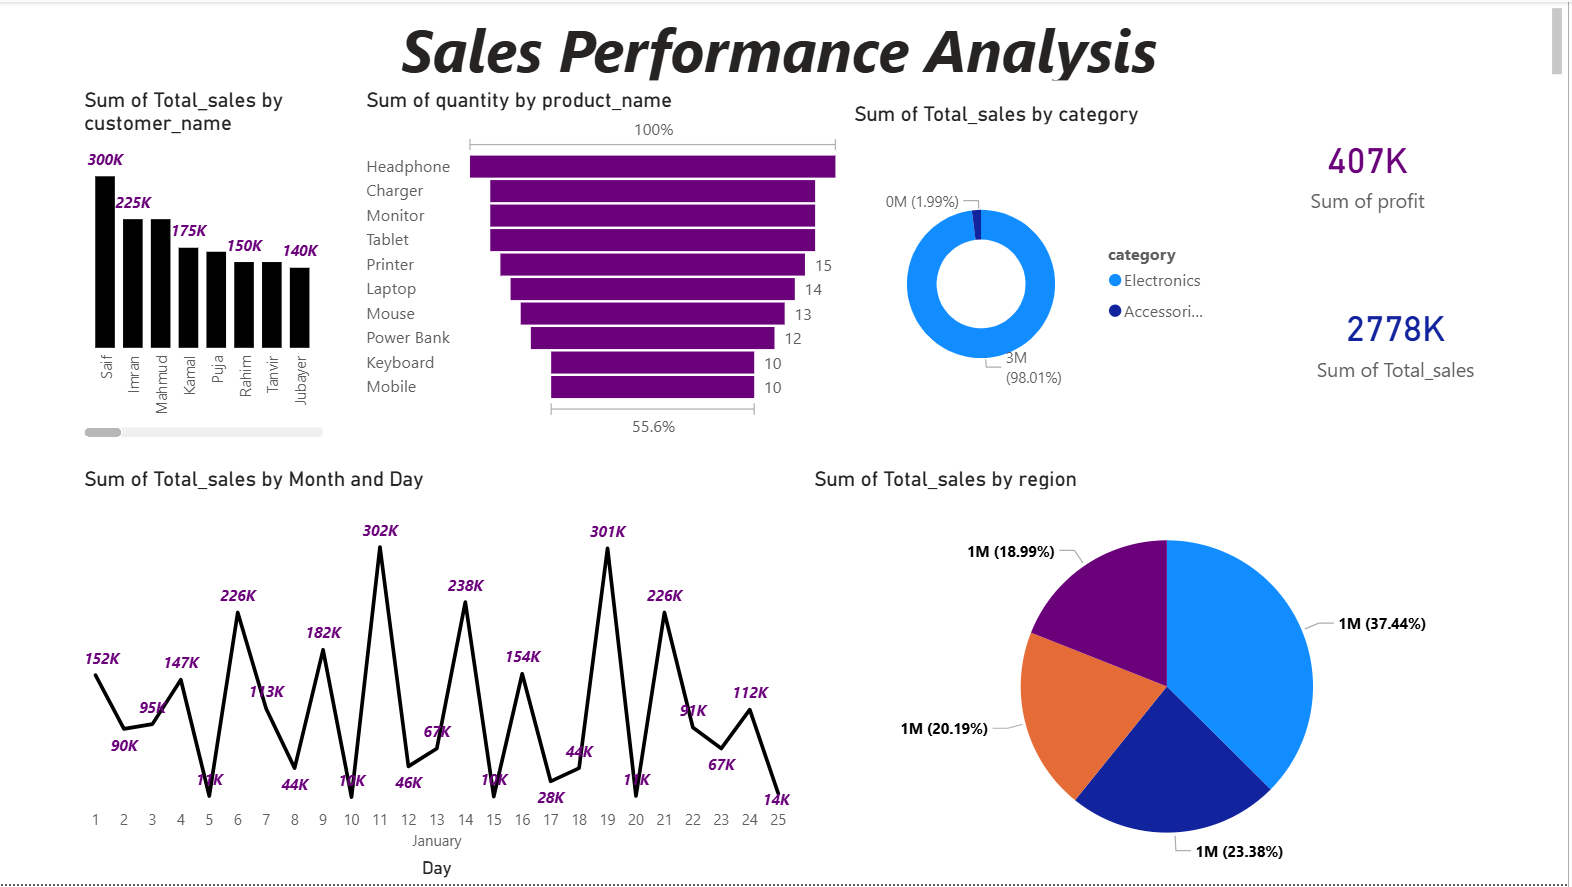

The page's visual inventory and layout, read from the dashboard file:
{"tool":"powerbi","page":{"name":"Page 1","canvas":[1280,720],"ordinal":0},"visuals":[{"type":"donutChart","fields":{"Category":["Sales performance Analysis.category"],"Y":["Sales performance Analysis.Total_sales"]},"box":[692.1,80.6,306.2,279.7],"z":0},{"type":"clusteredColumnChart","fields":{"Category":["Sales performance Analysis.customer_name"],"Y":["Sales performance Analysis.Total_sales"]},"box":[63.3,69.4,205.2,290.9],"z":1},{"type":"funnel","fields":{"Category":["Sales performance Analysis.product_name"],"Y":["Sales performance Analysis.quantity"]},"box":[294,69.4,398.1,290.9],"z":2},{"type":"lineChart","fields":{"Category":["Sales performance Analysis.sale_date.Variation.Date Hierarchy.Month","Sales performance Analysis.sale_date.Variation.Date Hierarchy.Day"],"Y":["Sales performance Analysis.Total_sales"]},"box":[63.3,378.7,585.9,340.9],"z":3},{"type":"pieChart","fields":{"Category":["Sales performance Analysis.region"],"Y":["Sales performance Analysis.Total_sales"]},"box":[659.4,378.7,585.9,340.9],"z":4},{"type":"card","fields":{"Values":["Sales performance Analysis.Total_sales"]},"box":[998.3,206.2,281.7,137.8],"z":5},{"type":"card","fields":{"Values":["Sales performance Analysis.profit"]},"box":[975.8,69.4,281.7,136.8],"z":6},{"type":"textbox","box":[0,0,1280,69.4],"z":7}]}

Visuals, with their boxes in screenshot pixels (x1, y1, x2, y2), scaled from the page's 1280x720 canvas onto the 1572x887 screenshot:
donutChart - Sales performance Analysis.category x Sales performance Analysis.Total_sales: 850, 99, 1226, 444
clusteredColumnChart - Sales performance Analysis.customer_name x Sales performance Analysis.Total_sales: 78, 85, 330, 444
funnel - Sales performance Analysis.product_name x Sales performance Analysis.quantity: 361, 85, 850, 444
lineChart - Sales performance Analysis.sale_date.Variation.Date Hierarchy.Month x Sales performance Analysis.sale_date.Variation.Date Hierarchy.Day: 78, 467, 797, 886
pieChart - Sales performance Analysis.region x Sales performance Analysis.Total_sales: 810, 467, 1529, 886
card - Sales performance Analysis.Total_sales: 1226, 254, 1571, 424
card - Sales performance Analysis.profit: 1198, 85, 1544, 254
textbox: 0, 0, 1571, 85
